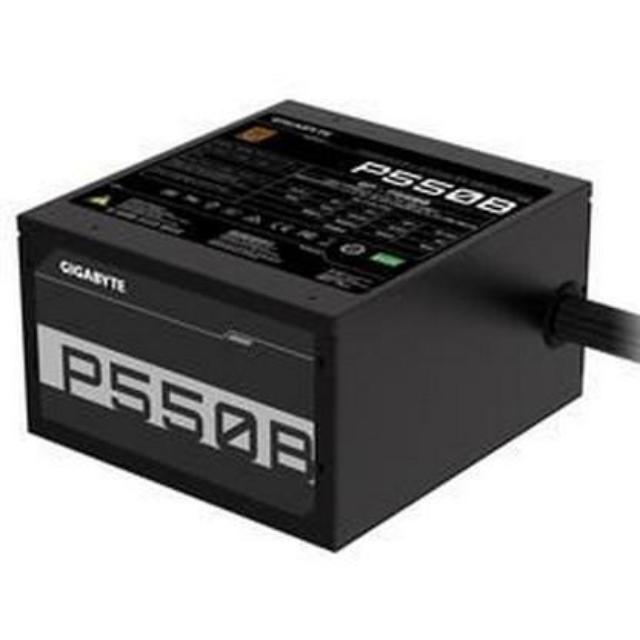PSU: (0, 78, 618, 564)
